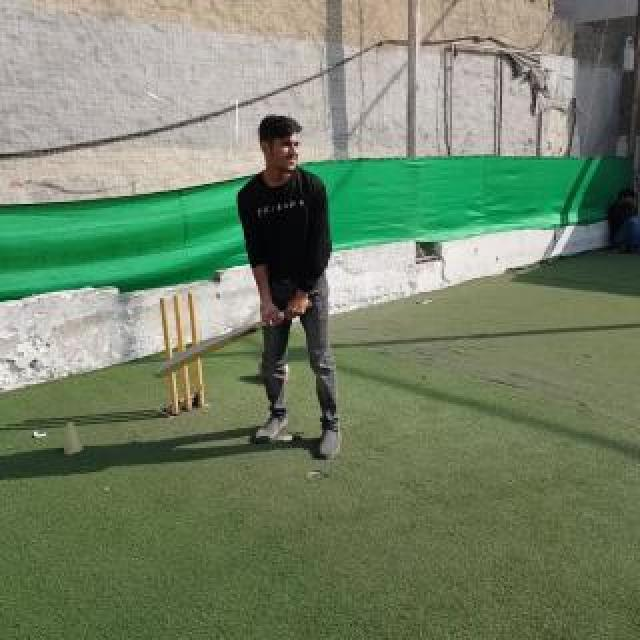bat: (154, 300, 314, 378)
